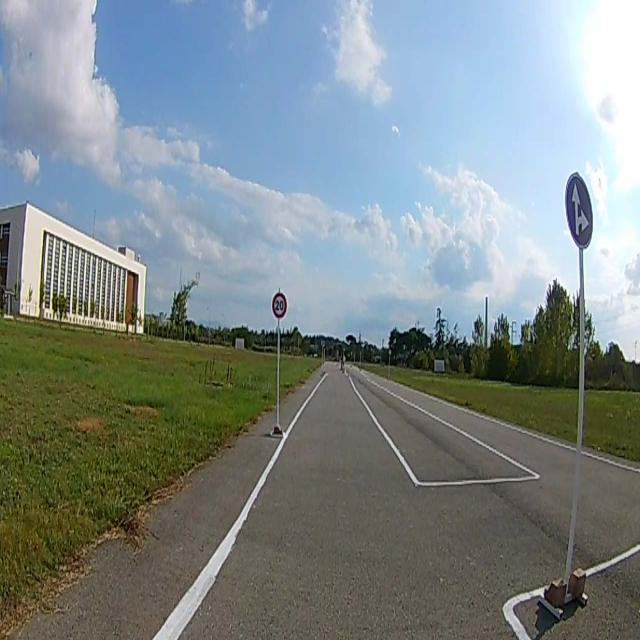20: (274, 291, 286, 316)
ilerisag: (566, 175, 592, 249)
